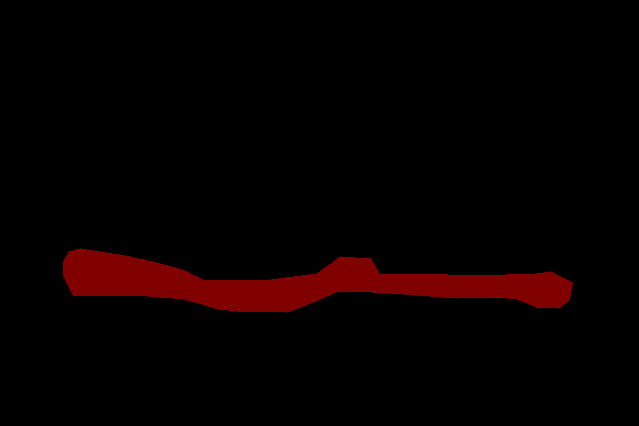fire: (63, 248, 572, 312)
